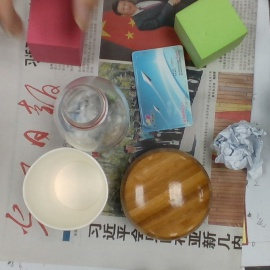bottle: (54, 76, 131, 152)
card: (131, 45, 194, 132)
chess: (120, 149, 212, 241)
cup: (22, 148, 108, 232)
